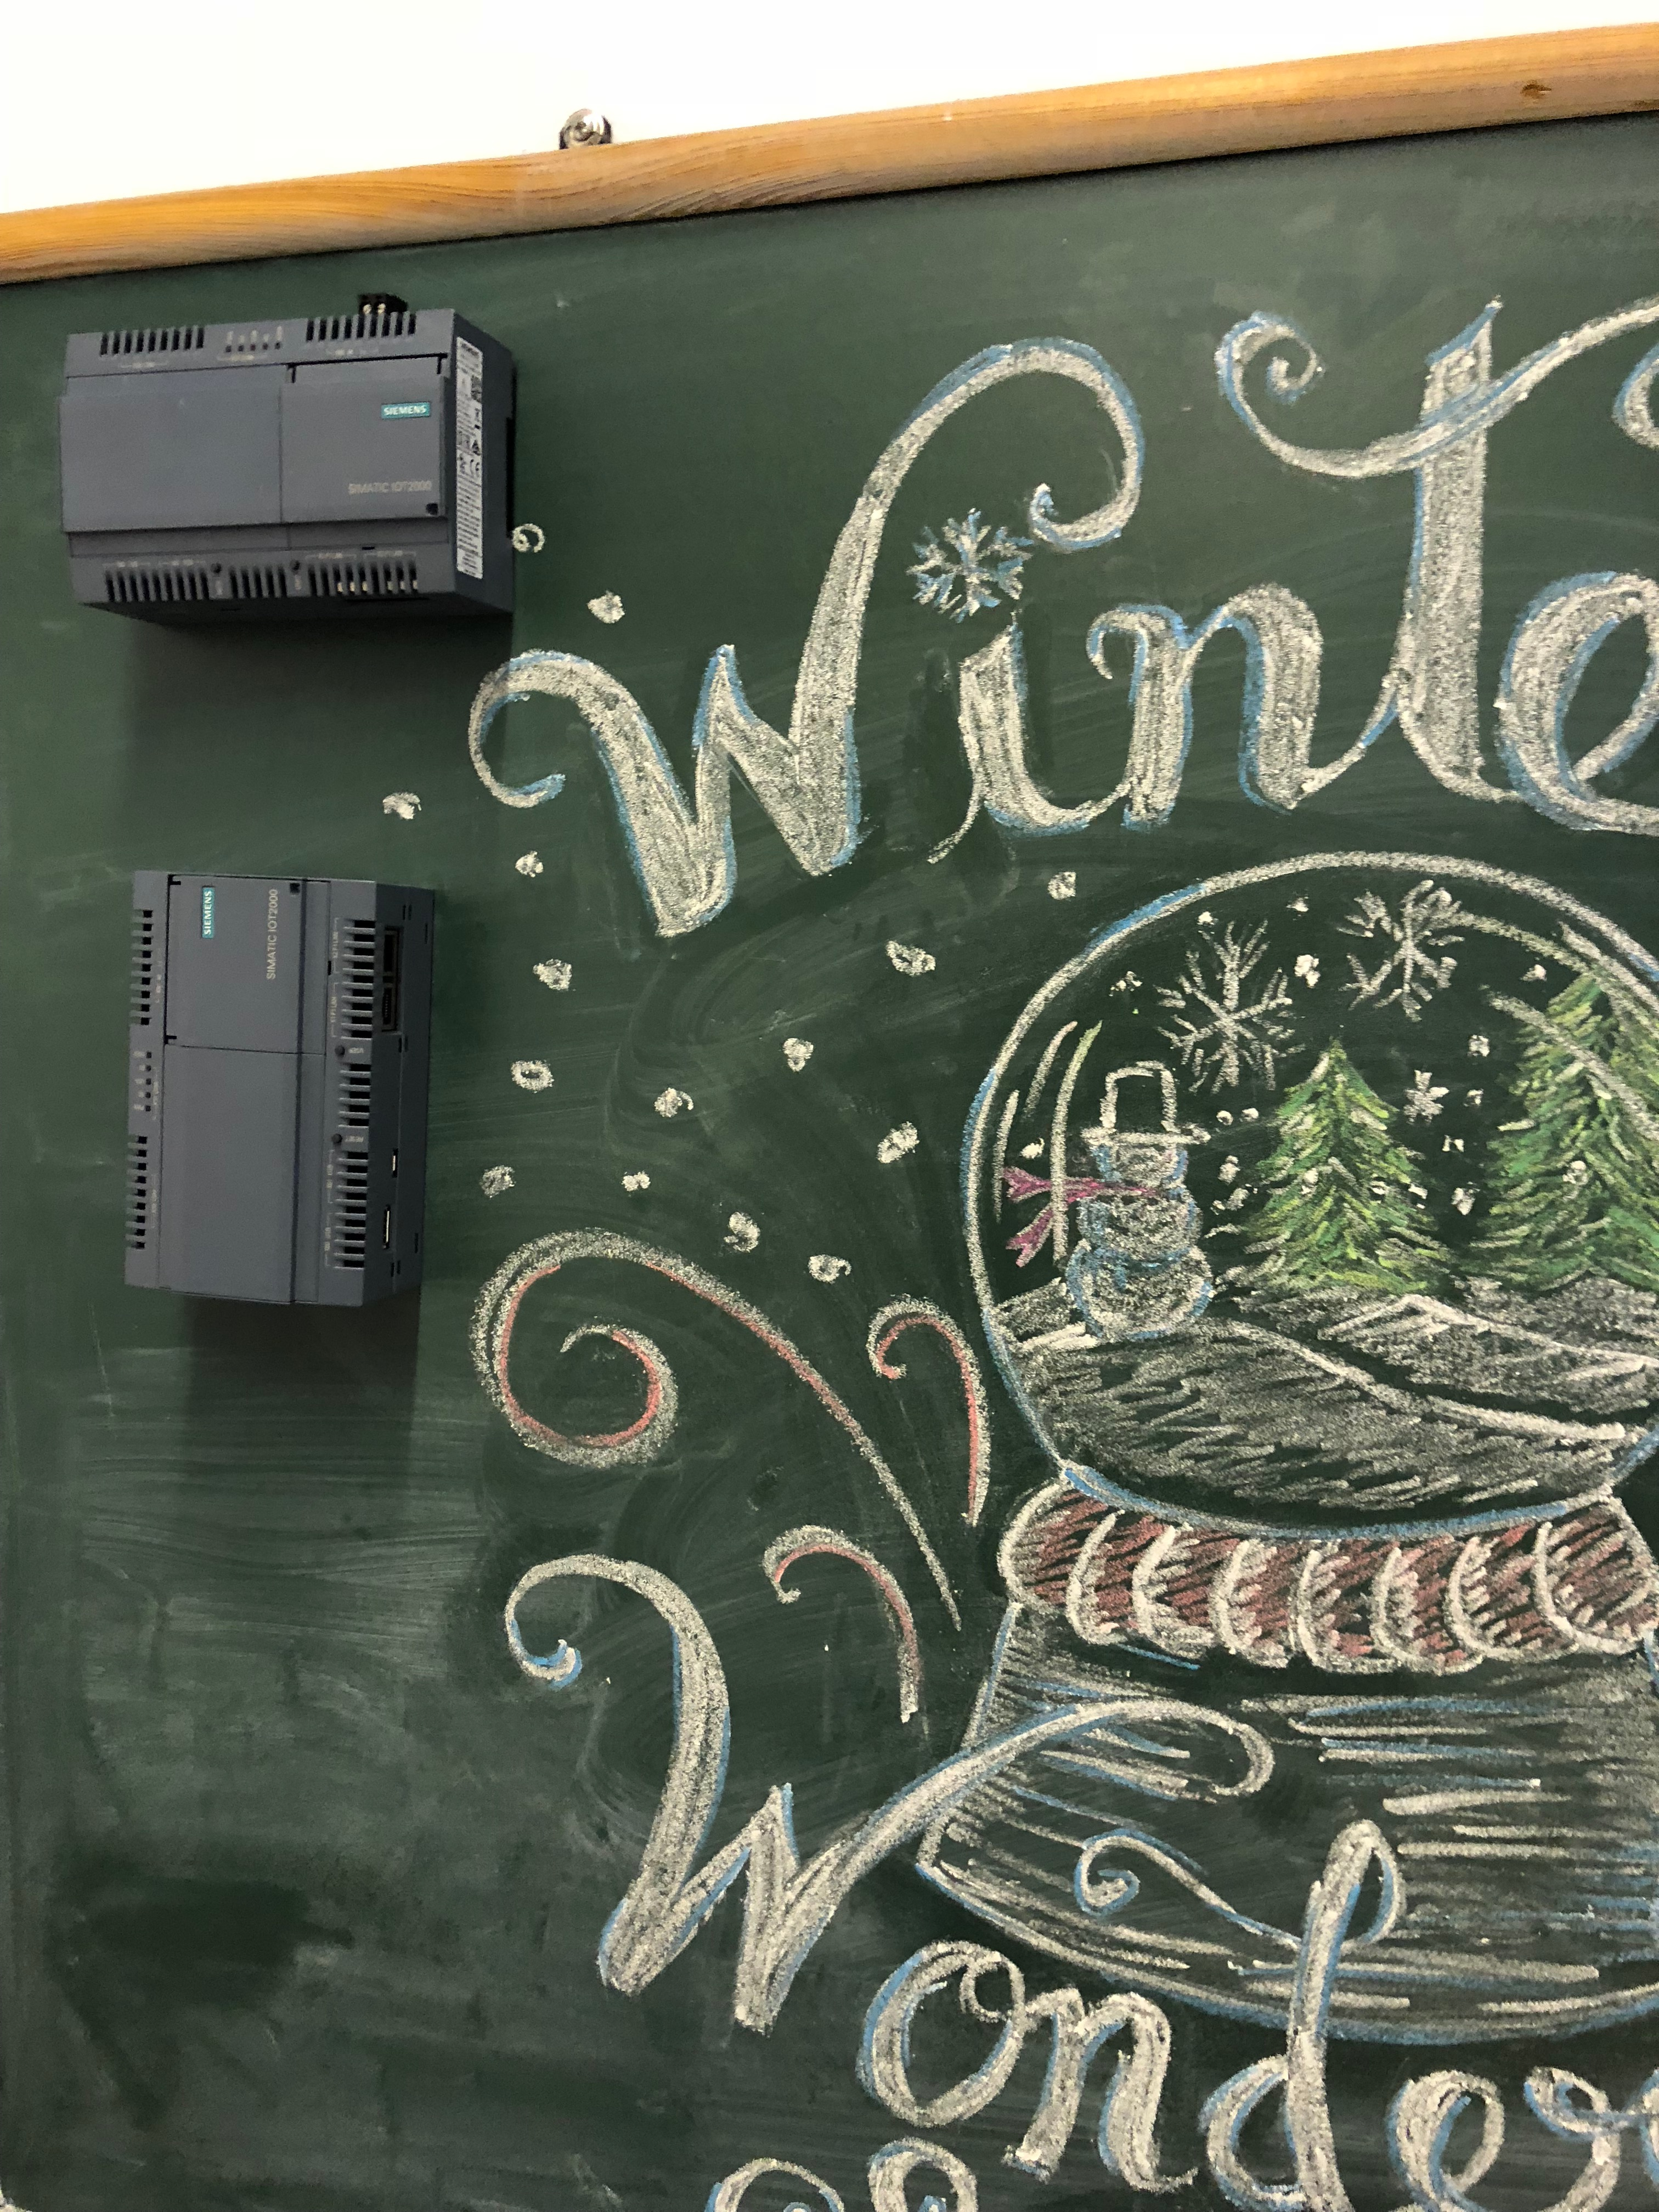device: (58, 293, 512, 622), (125, 871, 436, 1308)
